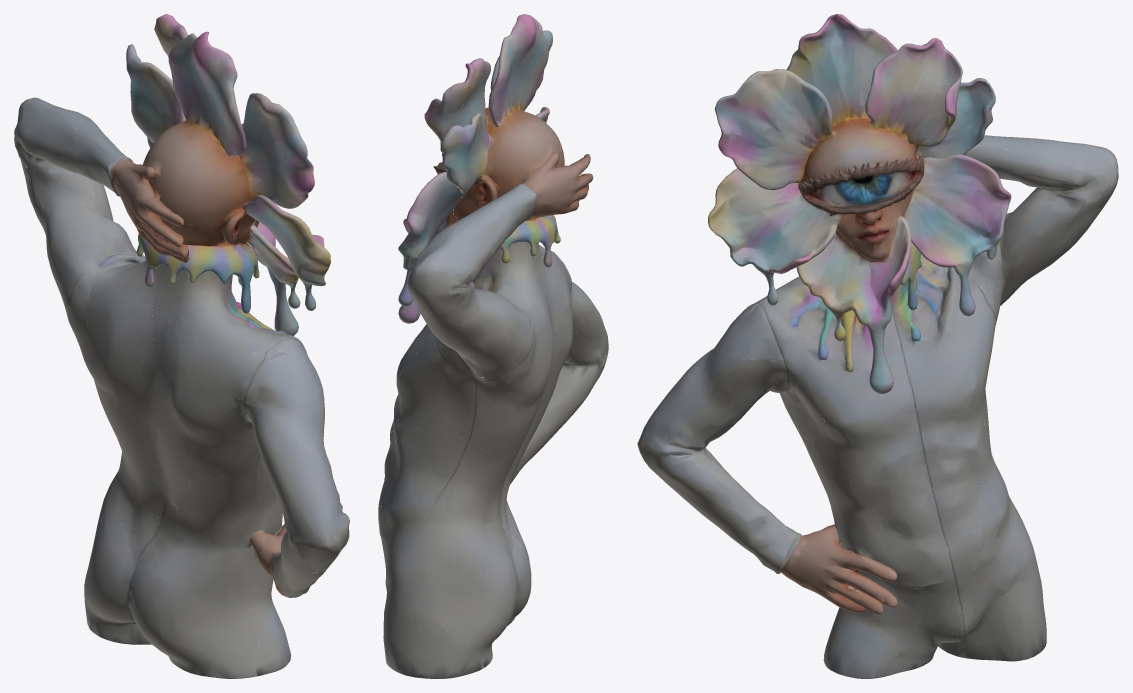
Rendered from bluesteel.glb.
The picture shows the model from 3 angles, left to right: view 1: azimuth 30°, elevation 25°; view 2: azimuth 150°, elevation 25°; view 3: azimuth 270°, elevation 25°; orthographic projection. The views are drawn at different scales.
Parts seen in each view (by area): view 1: tripo_node_6e8de984-f9ef-40d1-9719-410a3dc0fffb; view 2: tripo_node_6e8de984-f9ef-40d1-9719-410a3dc0fffb; view 3: tripo_node_6e8de984-f9ef-40d1-9719-410a3dc0fffb.
Boxes of the visible parts, x1,y1,x2,y2 form: tripo_node_6e8de984-f9ef-40d1-9719-410a3dc0fffb: [14, 14, 349, 678]; tripo_node_6e8de984-f9ef-40d1-9719-410a3dc0fffb: [378, 14, 608, 678]; tripo_node_6e8de984-f9ef-40d1-9719-410a3dc0fffb: [637, 14, 1118, 678].
Size of the model in its own units: 0.3061 by 1 by 0.702.
Materials: 1 (1 with a texture image).
